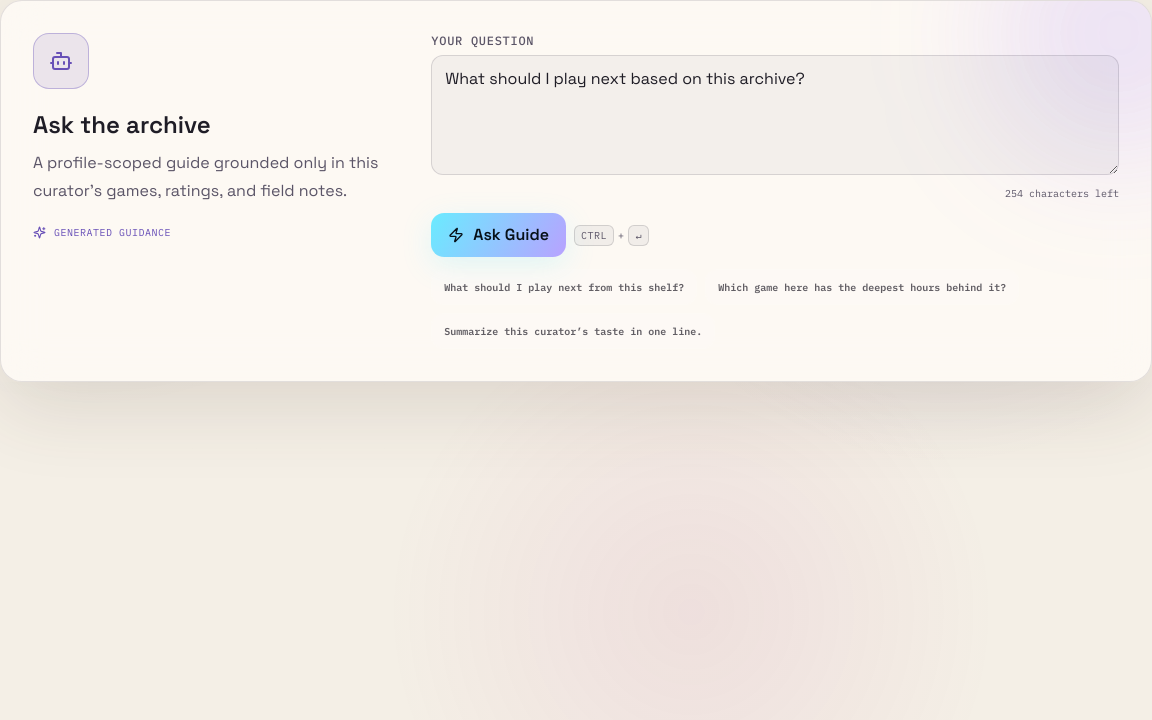
Test: Guide › asks the guide for the current profile and renders the answer
Click the button "Ask Guide" at (499, 235), box [431,213,566,257]
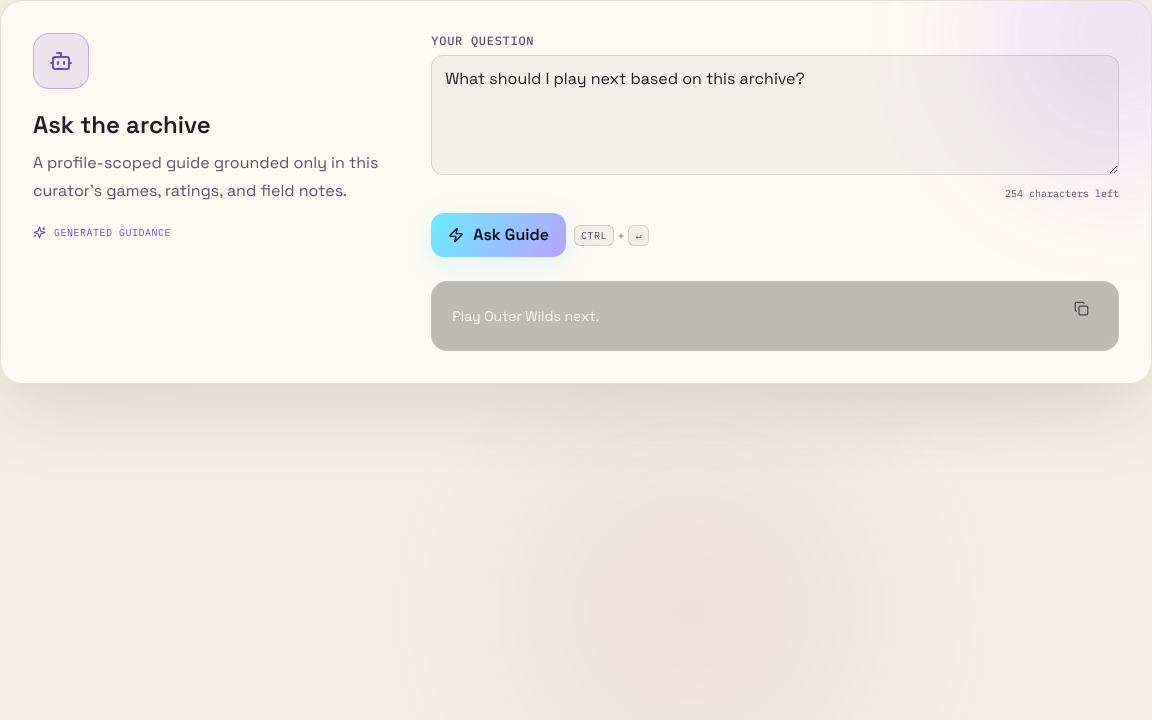
Expected: the text "Play Outer Wilds next." is shown, [431,281,1119,351]
Expected: the button "deepest hours" is gone
